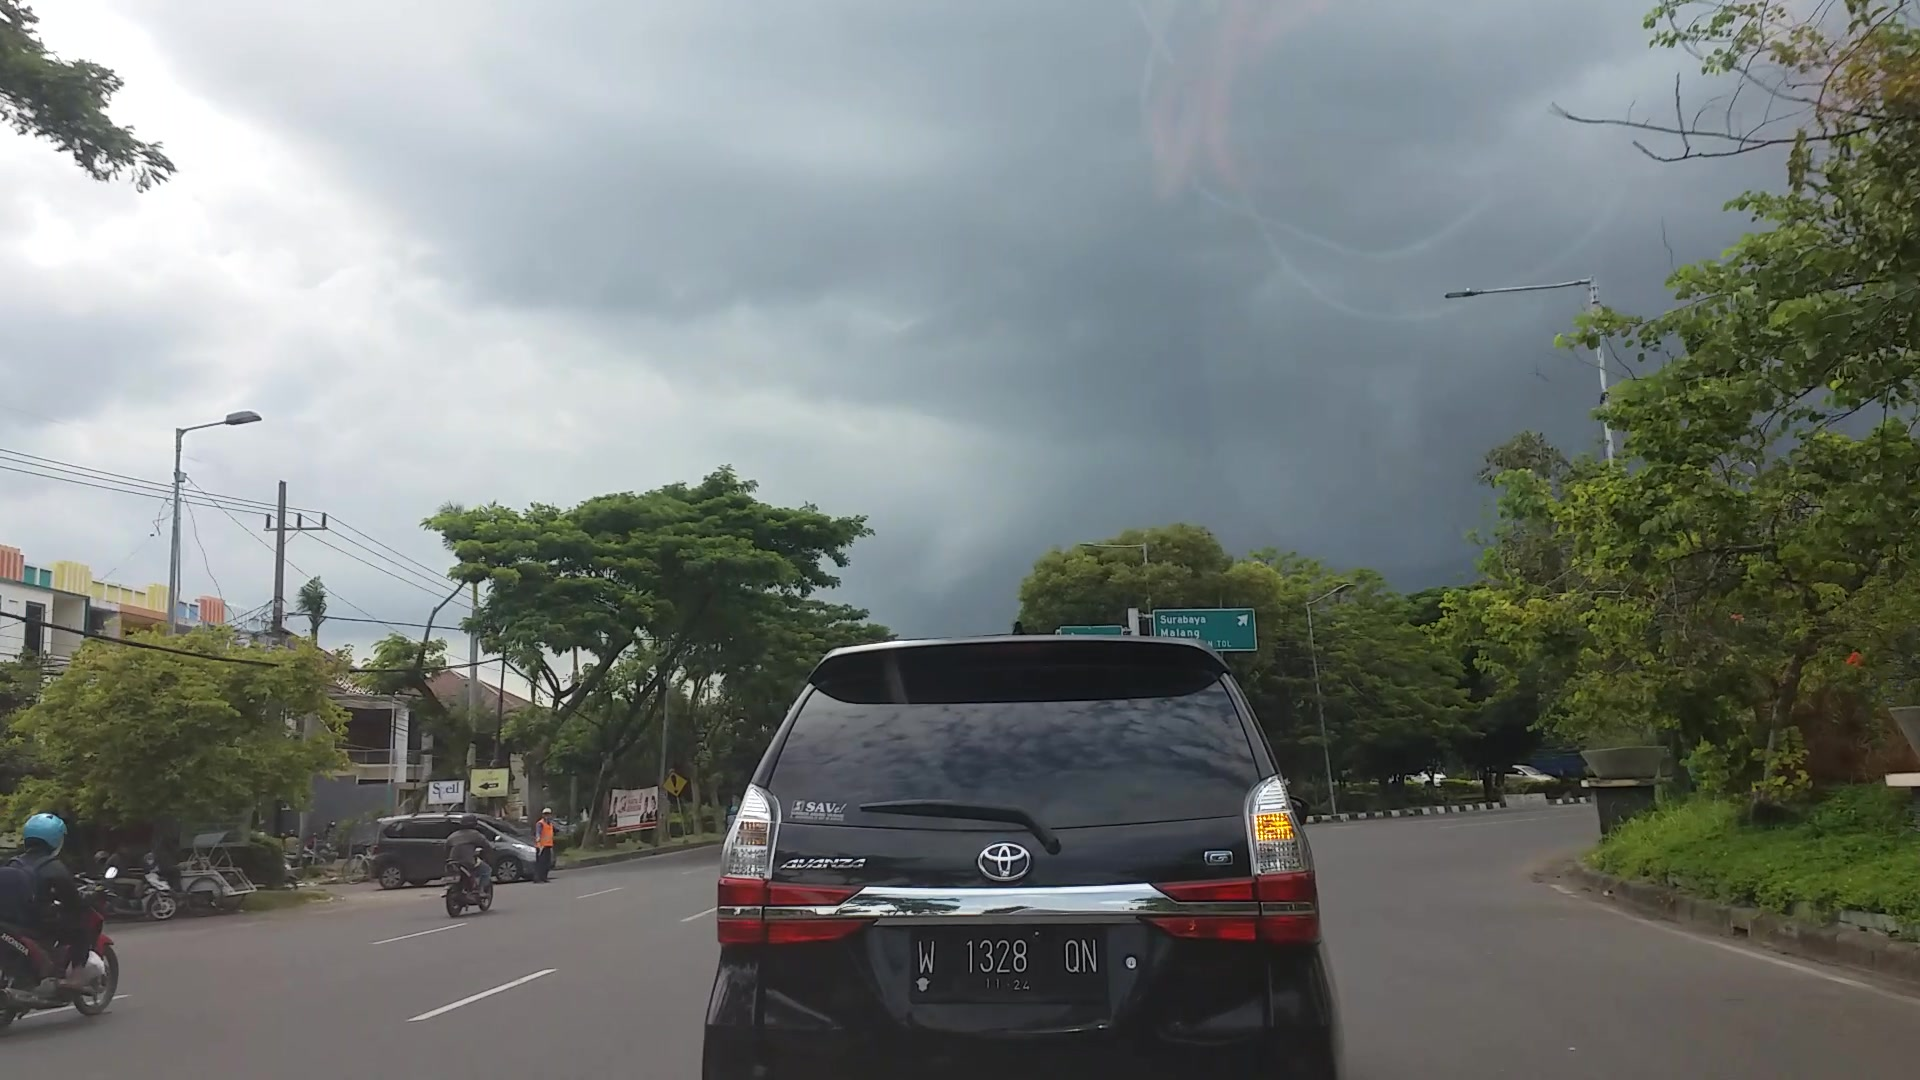plate_positive: (911, 923, 1109, 1004)
